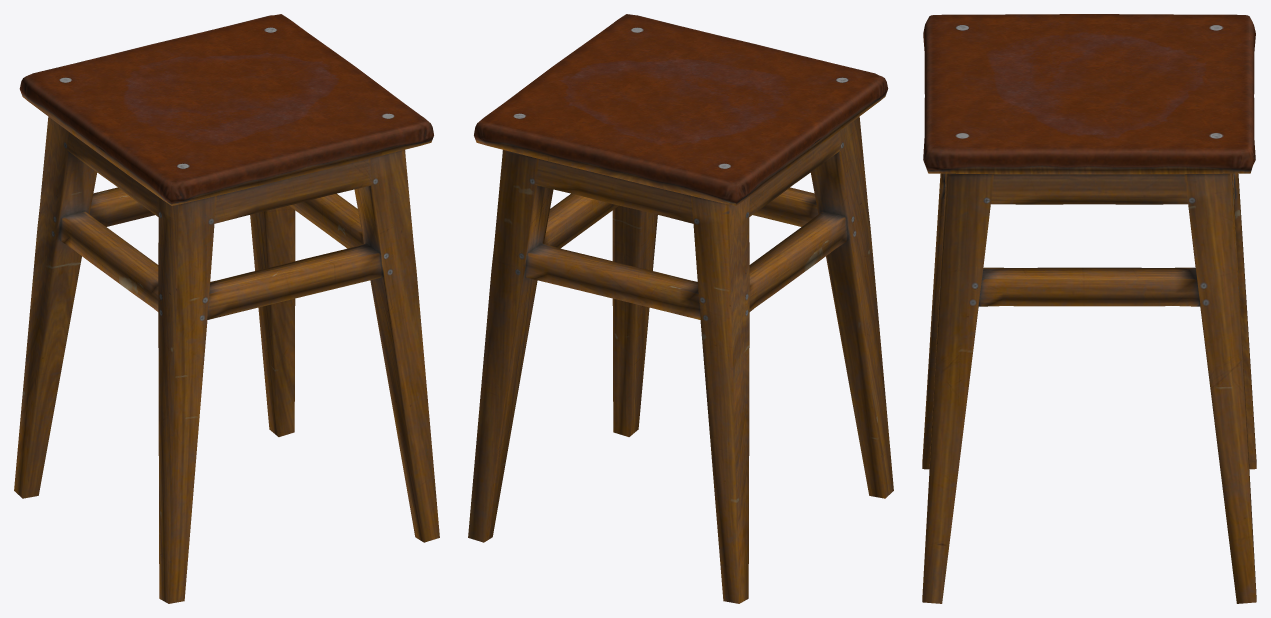
File: stool.glb
3 renders of one model, left to right at view 1: azimuth 30°, elevation 25°; view 2: azimuth 150°, elevation 25°; view 3: azimuth 270°, elevation 25°, orthographic. The views are drawn at different scales.
Visible parts, largest first — view 1: g; view 2: g; view 3: g.
Part boxes in pixels (<box>): g: <box>14,14,439,603</box>; g: <box>468,14,893,603</box>; g: <box>922,14,1256,603</box>.
Bounding box in the file's own units: 0.5142 × 0.7587 × 0.5067.
Materials: 1 (1 with a texture image).
